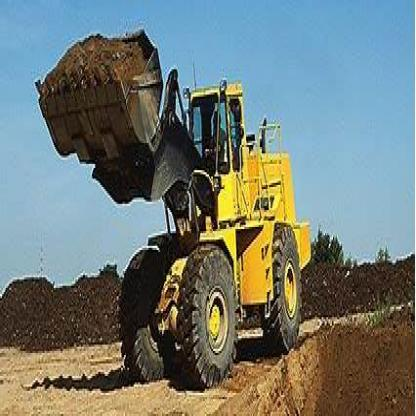bull_dozer/loader/grader: (34, 17, 314, 391)
